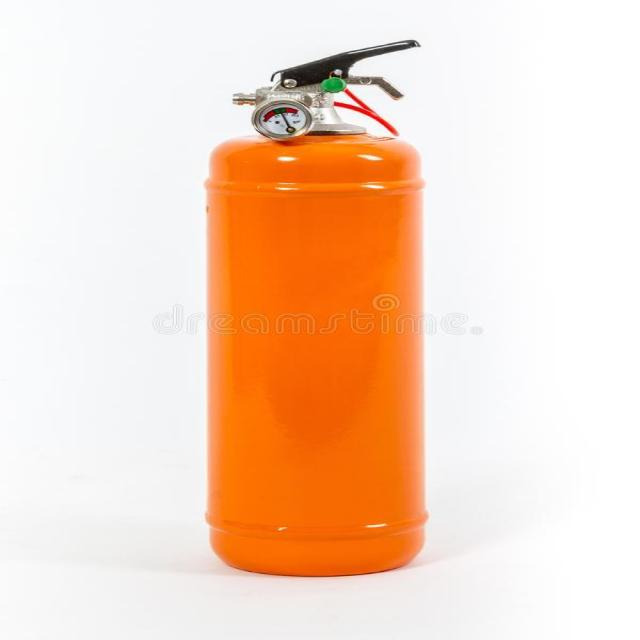fire_extinguisher: (193, 34, 434, 579)
